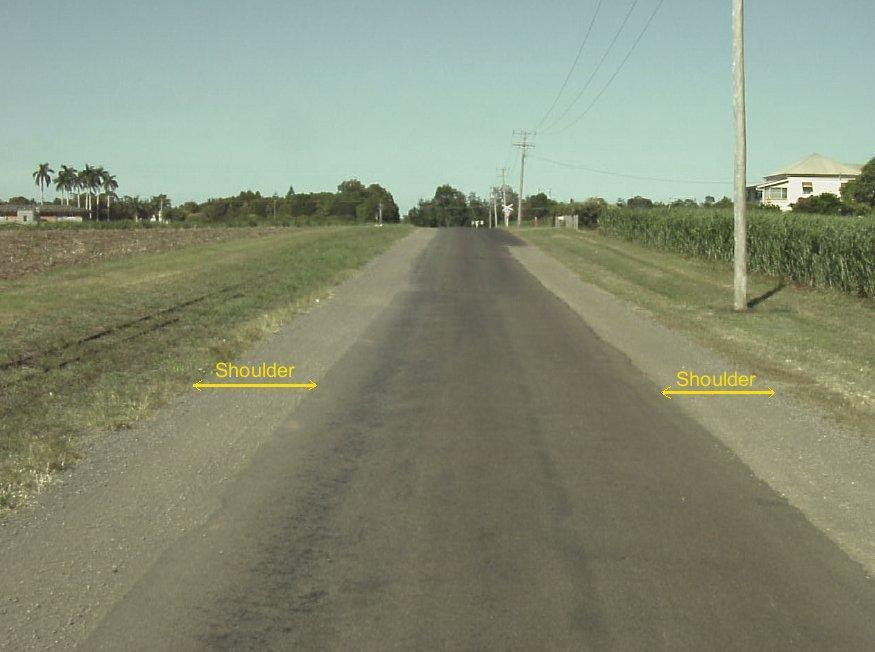language: (658, 365, 777, 409), (183, 357, 323, 391)
